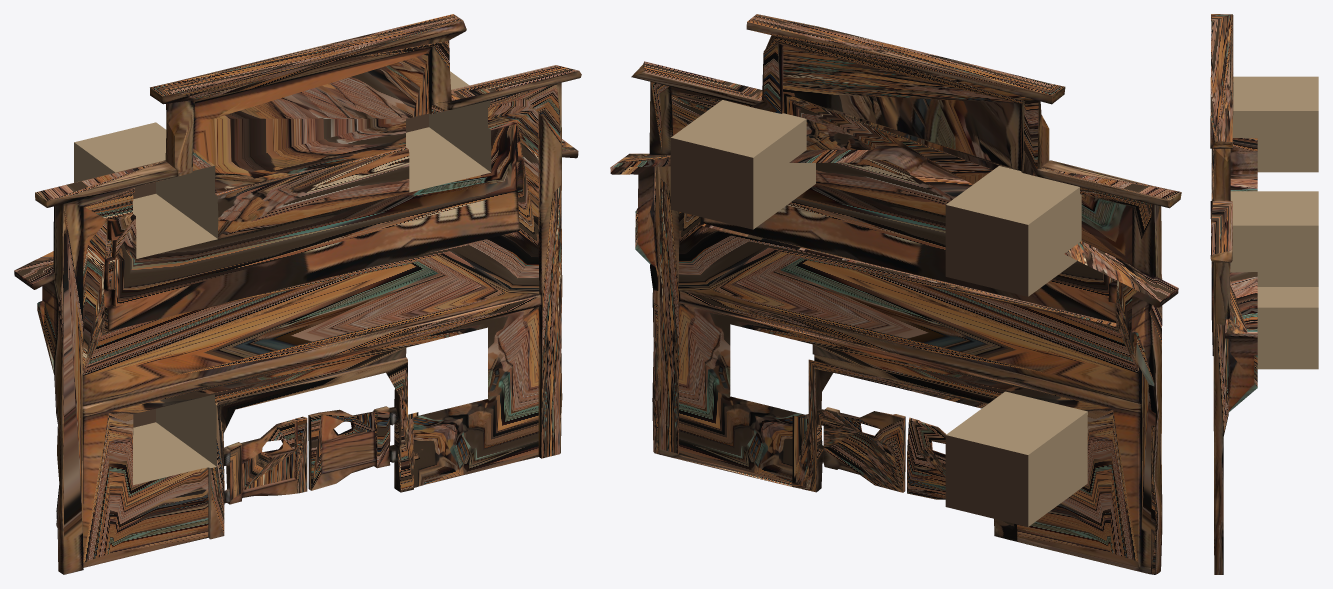
Rendered from saloon_facade_s.glb.
The picture shows the model from 3 angles, left to right: view 1: azimuth 30°, elevation 25°; view 2: azimuth 150°, elevation 25°; view 3: azimuth 270°, elevation 25°; orthographic projection. The views are drawn at different scales.
Parts seen in each view (by area): view 1: wl_saloon_long; view 2: wl_saloon_long; view 3: wl_saloon_long.
Part boxes in pixels (x1,y1,x2,y2): wl_saloon_long: [14, 14, 581, 574]; wl_saloon_long: [610, 14, 1181, 574]; wl_saloon_long: [1210, 14, 1318, 574].
Bounding box in the file's own units: 8 × 6.4 × 1.6.
Materials: 2 (1 with a texture image).
